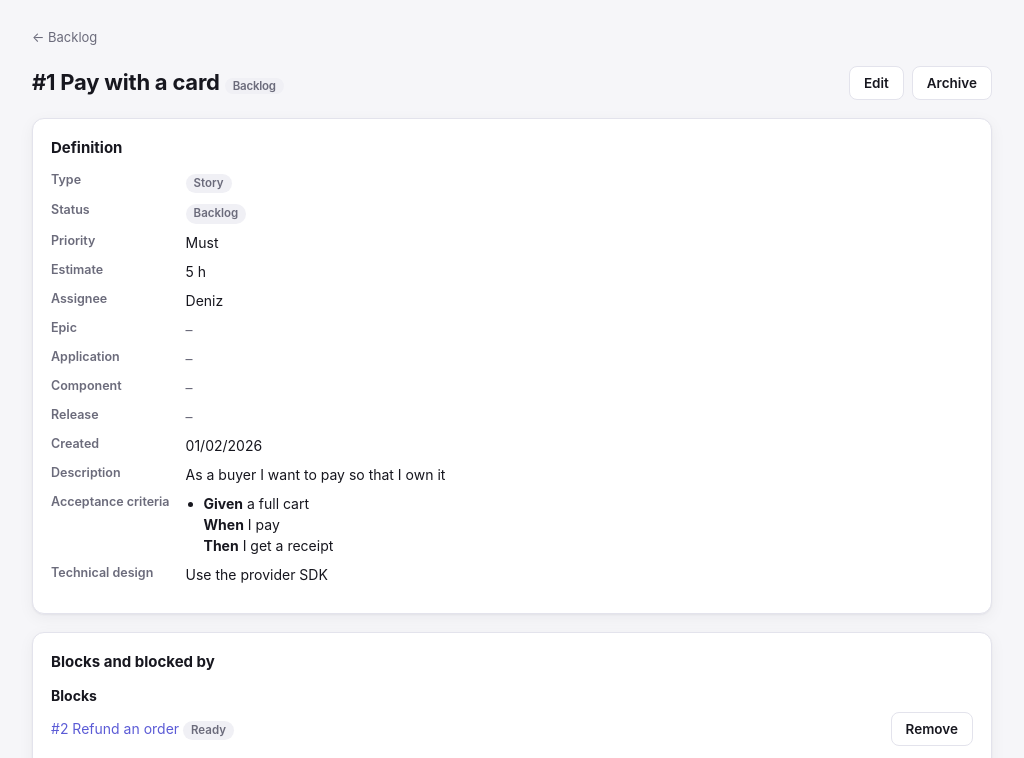
Test: blocks and blocked by › removes a link and reads the issue again
expect the heading "#1 Pay with a card Backlog" is shown: met, box [32, 69, 284, 96]
Step 1. Click the button with aria-label "Remove #2" → [932, 729], box [891, 712, 973, 746]
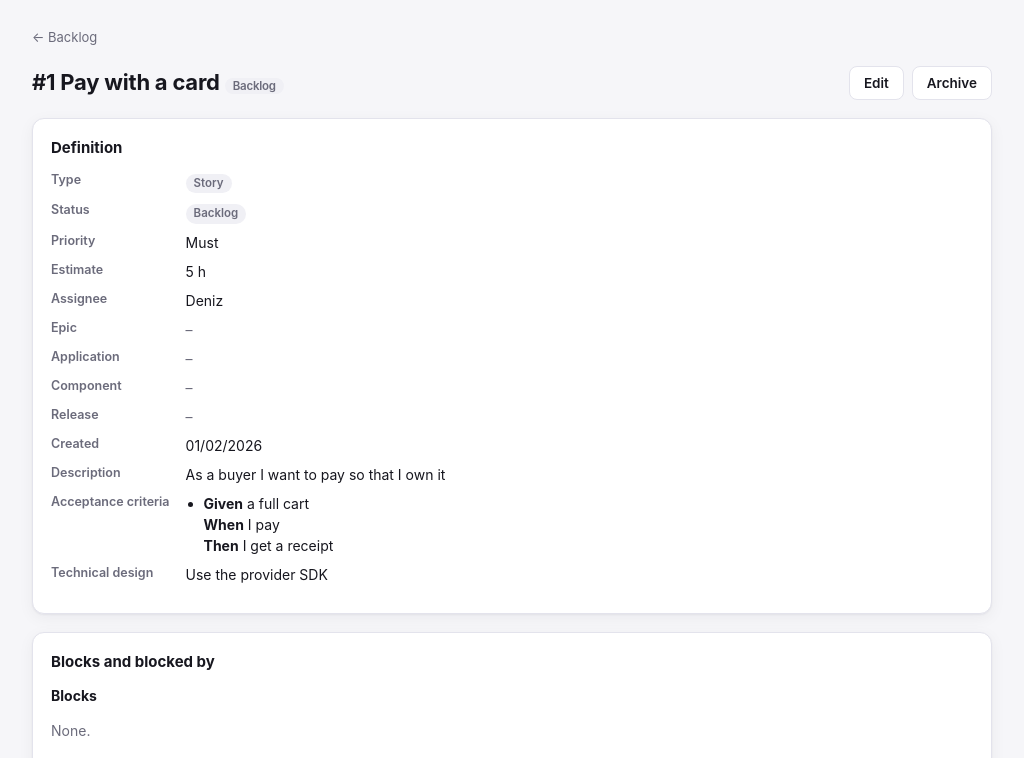
expect the link "#2 Refund an order" is gone: met
